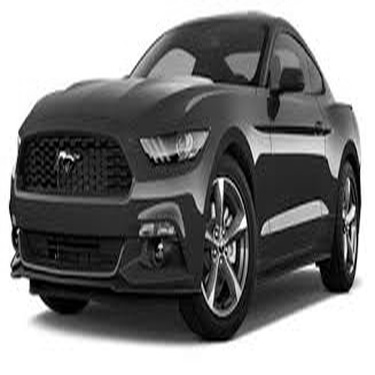car: (11, 6, 365, 342)
